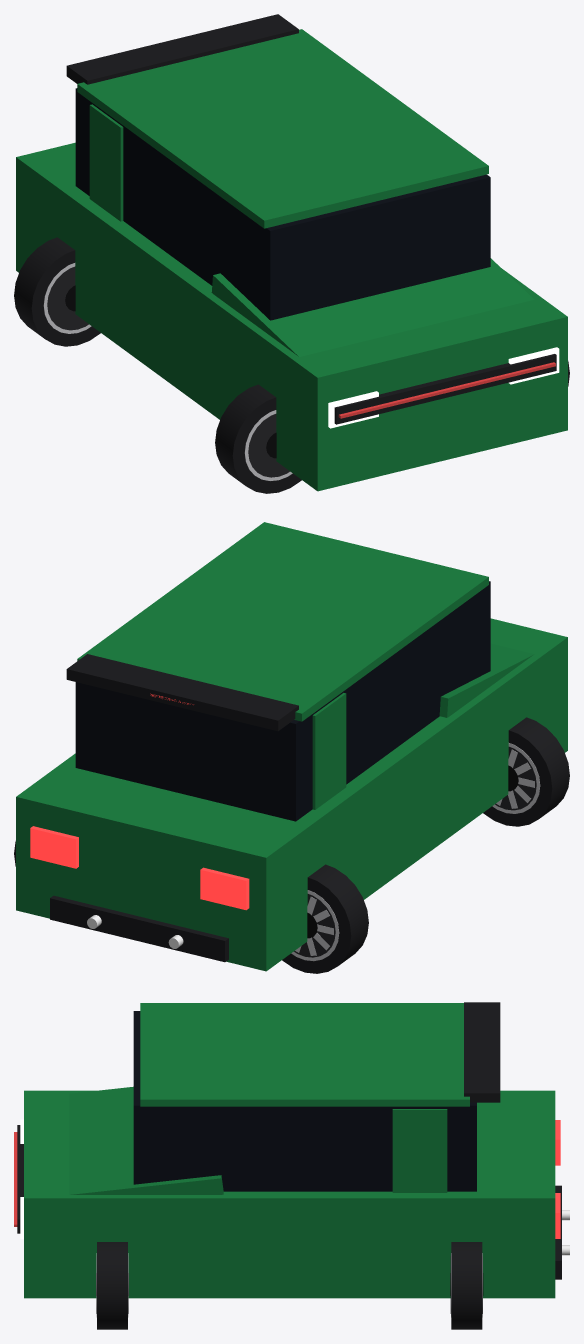
The model's file is vw_golf_mk7.glb.
The picture shows the model from 3 angles, top to bottom: view 1: azimuth 30°, elevation 25°; view 2: azimuth 150°, elevation 25°; view 3: azimuth 270°, elevation 25°; orthographic projection. The views are drawn at different scales.
Parts seen in each view (by area): view 1: VW_Golf_Mk7_Hatchback; view 2: VW_Golf_Mk7_Hatchback; view 3: VW_Golf_Mk7_Hatchback.
Part boxes in pixels (x1=…): VW_Golf_Mk7_Hatchback: x1=14, y1=14, x2=569, y2=493; VW_Golf_Mk7_Hatchback: x1=14, y1=522, x2=569, y2=973; VW_Golf_Mk7_Hatchback: x1=14, y1=1002, x2=569, y2=1329.
Bounding box in the file's own units: 2.64 × 1.91 × 4.28.
